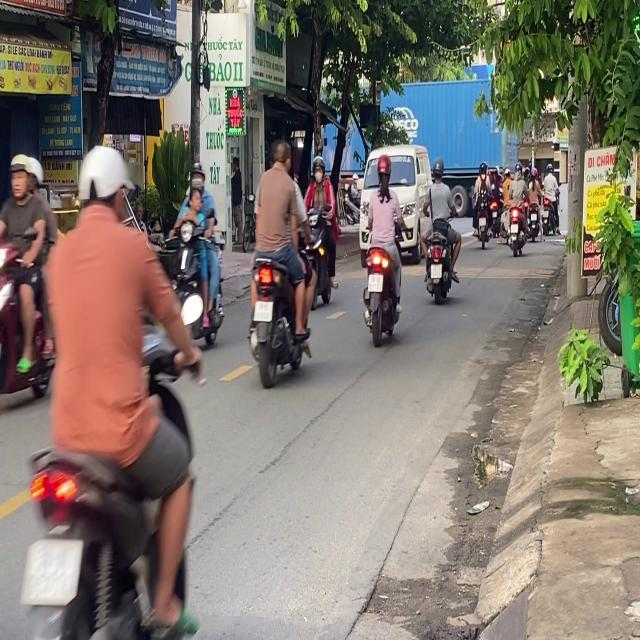helmet: (76, 142, 131, 222), (8, 152, 40, 202), (375, 154, 391, 186), (189, 160, 205, 191), (312, 155, 326, 181), (430, 156, 444, 181)
licenseplate: (10, 140, 209, 633), (245, 135, 314, 385), (0, 149, 64, 418), (169, 158, 225, 352), (360, 152, 404, 344), (421, 156, 461, 303), (302, 154, 340, 306)
motorcyclist: (272, 139, 291, 170), (188, 186, 202, 210)
nohelmet: (21, 541, 81, 605), (254, 300, 272, 320), (368, 274, 383, 292), (431, 264, 442, 278)
